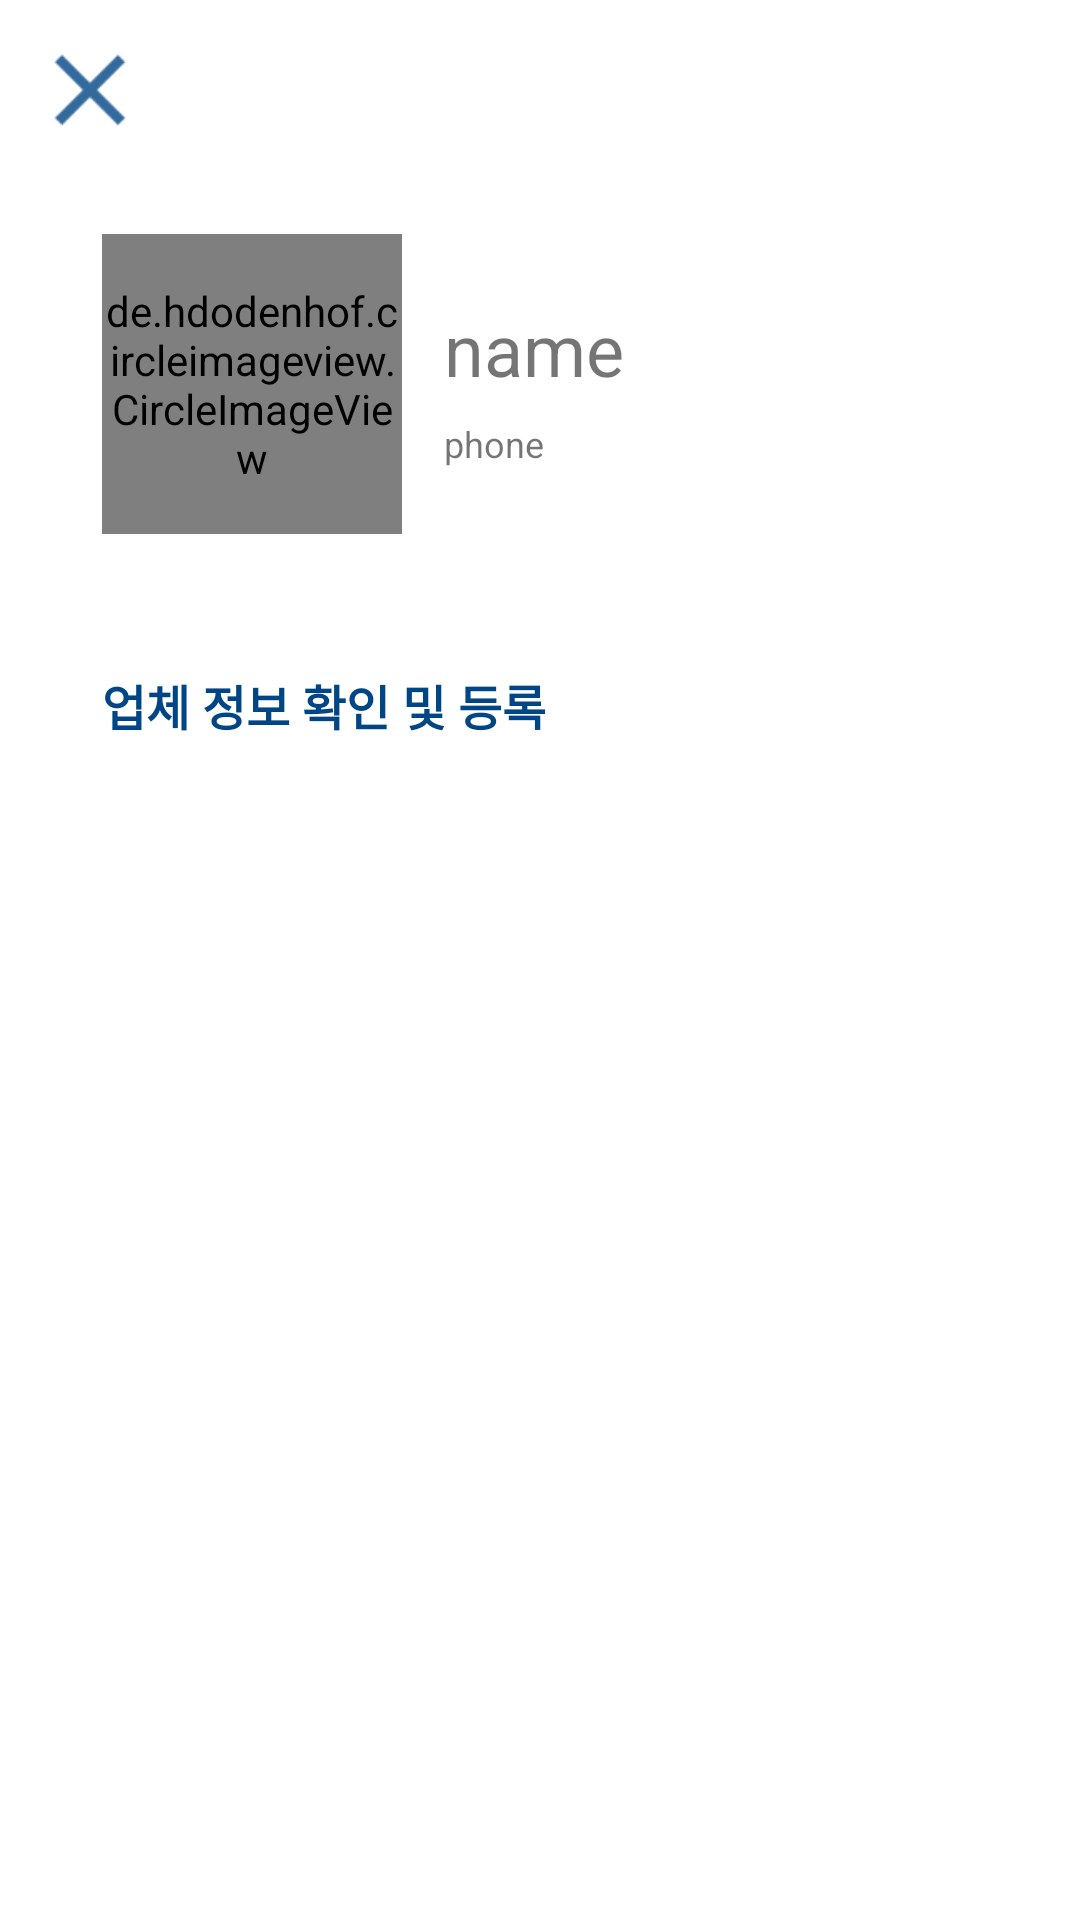

Locate icon controls on the screen. Image size 1080×1920, boxes as (x1, y1, x2, y2).
close: (54, 54, 126, 126)
